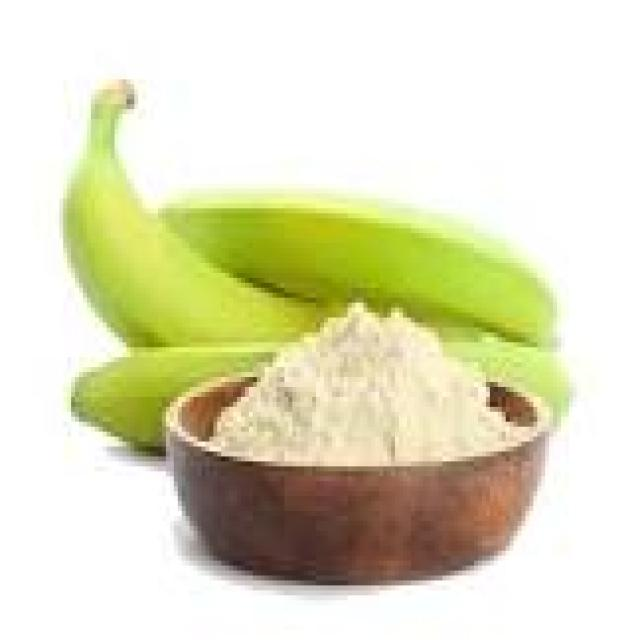banana: (64, 85, 327, 347), (162, 194, 557, 342), (72, 343, 280, 451), (72, 343, 276, 451), (447, 333, 572, 421)
